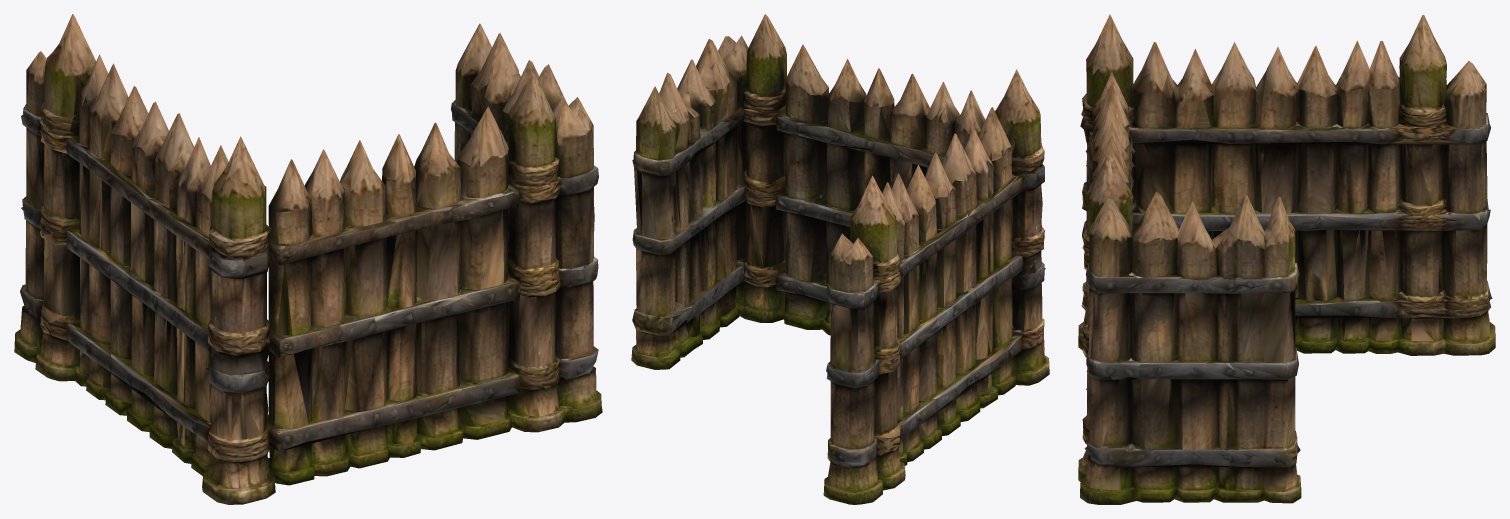
3 renders of one model, left to right at view 1: azimuth 30°, elevation 25°; view 2: azimuth 150°, elevation 25°; view 3: azimuth 270°, elevation 25°, orthographic. The views are drawn at different scales.
Parts seen in each view (by area): view 1: node_0; view 2: node_0; view 3: node_0.
Part boxes in pixels (box(x1,y1,x2,y2)): node_0: box(14, 14, 602, 504); node_0: box(631, 14, 1049, 504); node_0: box(1078, 14, 1495, 504).
Size of the model in its own units: 0.7421 by 0.6491 by 0.743.
1 material, 1 textured.
